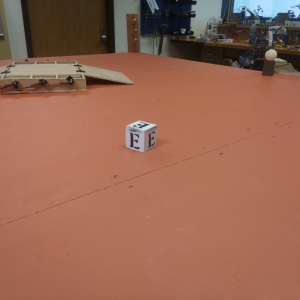blockE: (126, 121, 159, 152)
corner: (126, 14, 141, 55)
obstacle: (263, 50, 278, 78)
side: (1, 76, 87, 95)
slope: (81, 63, 134, 87), (1, 63, 12, 76)
